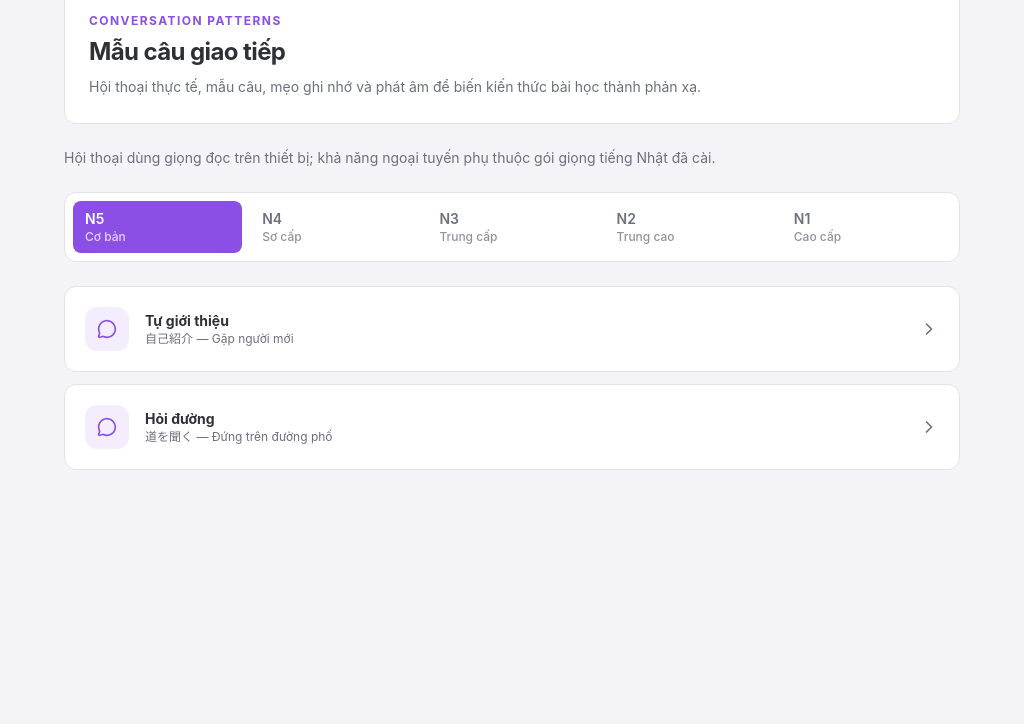
it: Conversations Page › expanded content › renders cultural note when present
Click the heading "Tự giới thiệu". click: (187, 320)
box: [145,312,229,329]
(page scrolled)
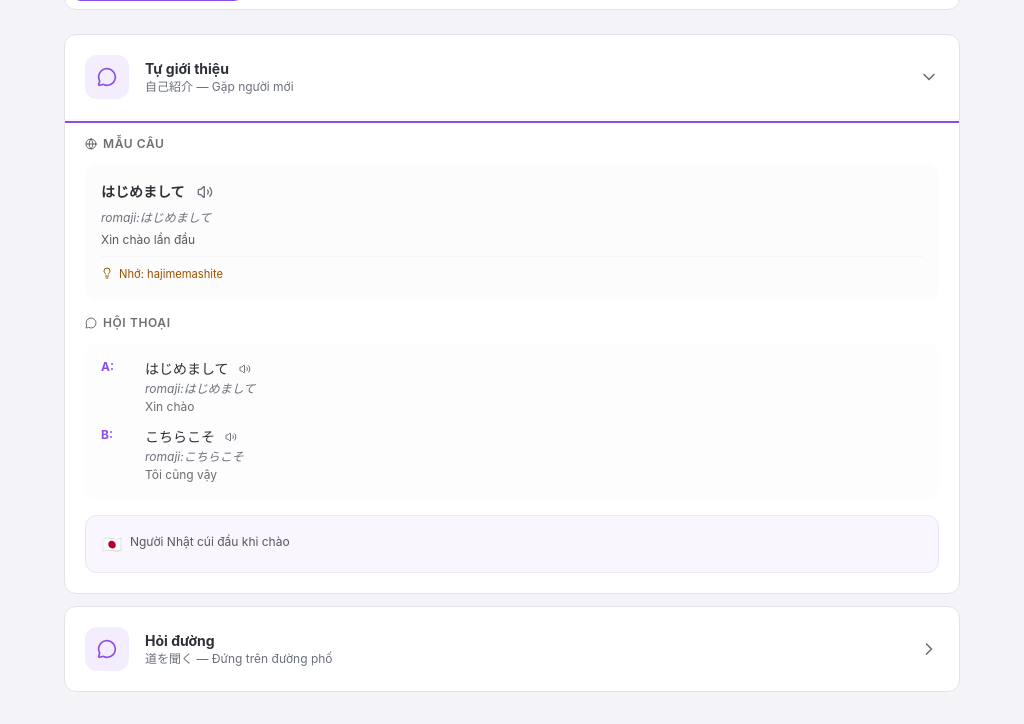
Expected: the text "Người Nhật cúi đầu khi chào" is shown, [130,532,290,552]
